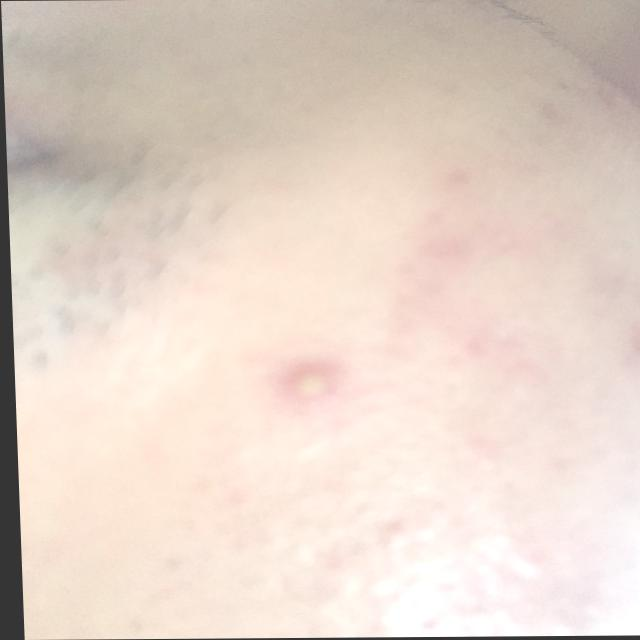blackheads: (272, 357, 360, 415)
